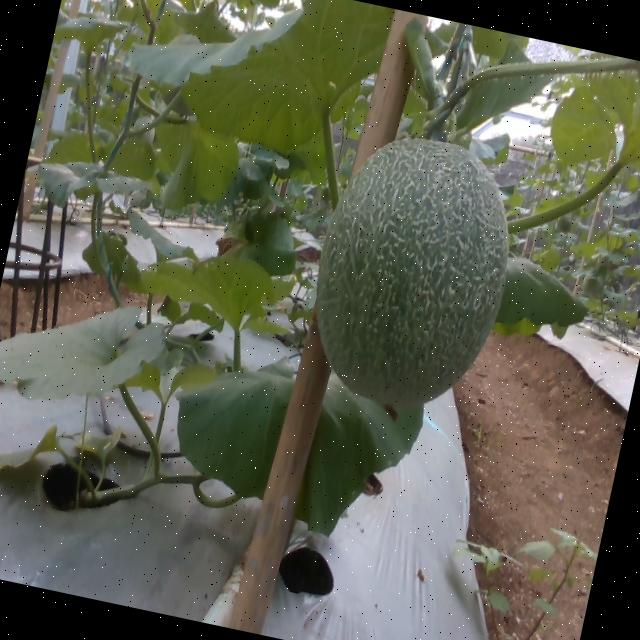melon: (316, 138, 508, 407)
